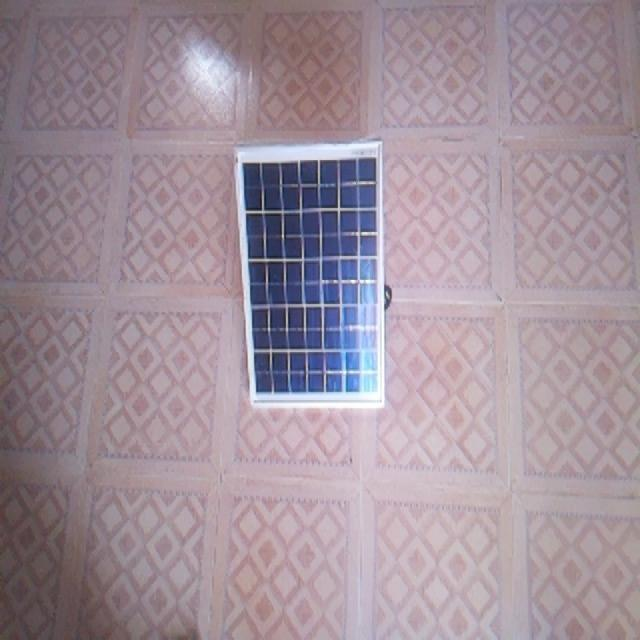Normal Solar Panel: (236, 143, 384, 407)
